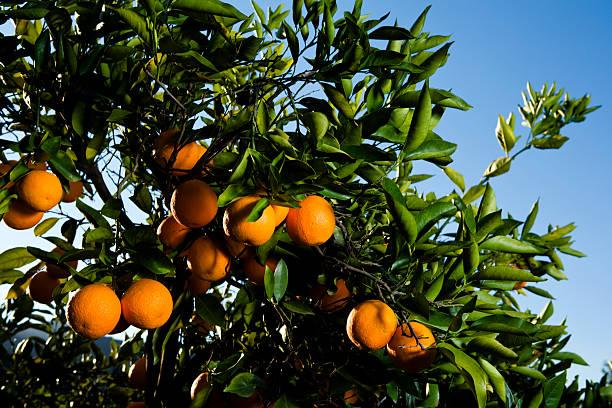orange: (336, 292, 468, 365), (61, 254, 169, 329), (15, 164, 89, 223), (287, 187, 345, 258), (163, 178, 226, 242), (225, 183, 281, 253), (121, 270, 174, 339)
